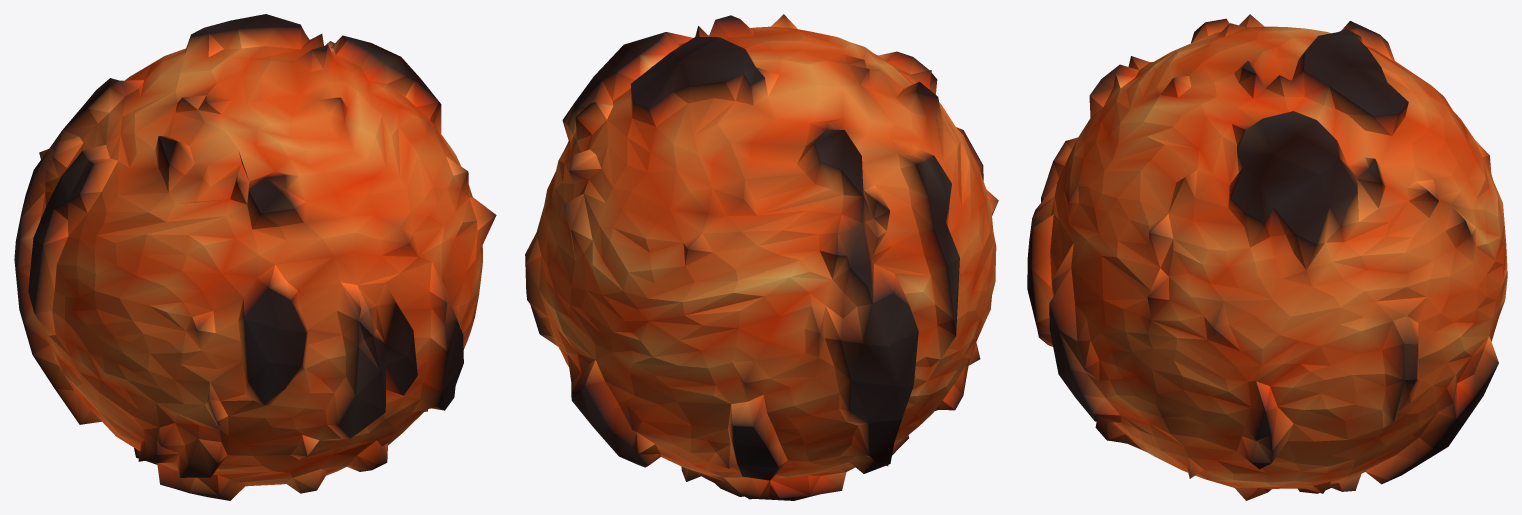
File: barren_16.fbx
The picture shows the model from 3 angles, left to right: view 1: azimuth 30°, elevation 25°; view 2: azimuth 150°, elevation 25°; view 3: azimuth 270°, elevation 25°; orthographic projection. The views are drawn at different scales.
Parts seen in each view (by area): view 1: filecache1; view 2: filecache1; view 3: filecache1.
Part boxes in pixels (bbox=[...]): filecache1: bbox=[14, 14, 496, 500]; filecache1: bbox=[525, 14, 998, 500]; filecache1: bbox=[1027, 14, 1507, 500].
Bounding box in the file's own units: 2.13 × 2.16 × 2.09.
